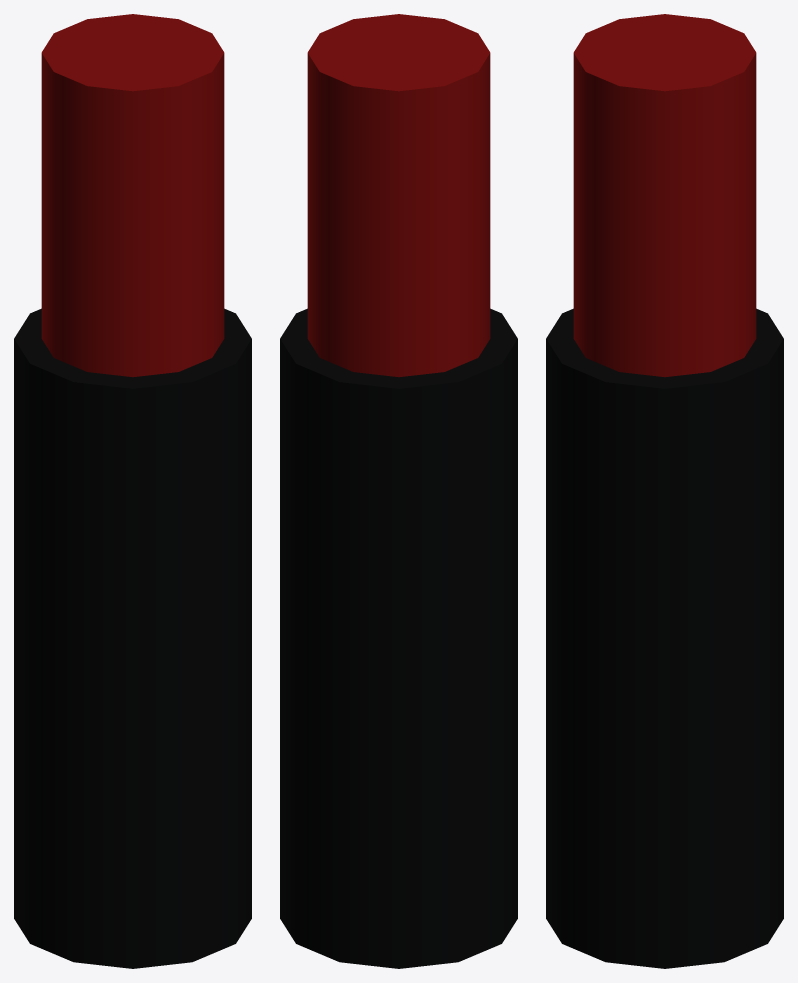
Rendered from Lipstick.fbx.
3 views of the same model, side by side, from view 1: azimuth 30°, elevation 25°; view 2: azimuth 150°, elevation 25°; view 3: azimuth 270°, elevation 25° (orthographic).
Parts seen in each view (by area): view 1: Lipstick; view 2: Lipstick; view 3: Lipstick.
Boxes of the visible parts, x1,y1,x2,y2 form: Lipstick: [14, 14, 251, 968]; Lipstick: [280, 14, 517, 968]; Lipstick: [546, 14, 783, 968].
Size of the model in its own units: 2.6 by 2.6 by 10.45.
